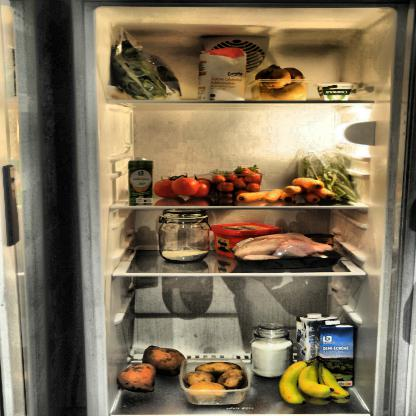banana: (276, 356, 354, 403)
butter: (211, 220, 282, 257)
carrot: (234, 176, 338, 204)
chicken: (231, 230, 346, 271)
green_beans: (291, 148, 366, 204)
heavy_cream: (128, 157, 154, 205)
milk: (287, 310, 336, 375), (315, 321, 357, 389)
onion: (254, 64, 312, 102)
potato: (186, 362, 247, 404)
spinach: (107, 28, 183, 104)
strawberries: (210, 166, 261, 200)
sweet_potato: (117, 340, 184, 396)
tomato: (154, 172, 217, 204)
